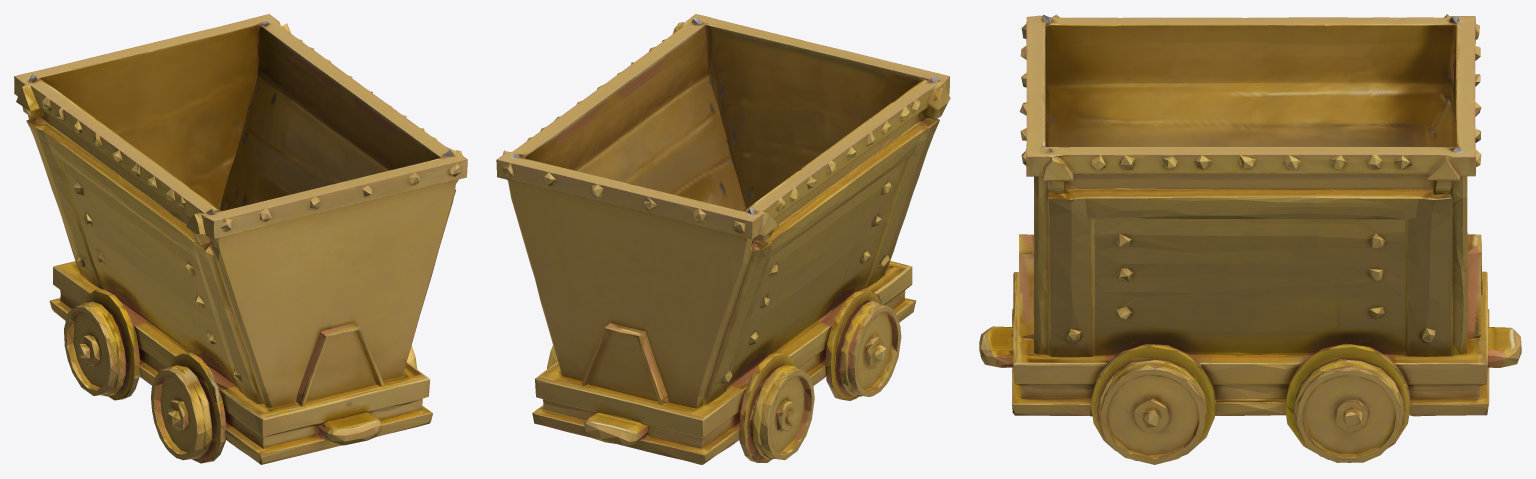
File: Golden_Minecart_0612102314_texture.fbx
The picture shows the model from 3 angles, left to right: view 1: azimuth 30°, elevation 25°; view 2: azimuth 150°, elevation 25°; view 3: azimuth 270°, elevation 25°; orthographic projection. The views are drawn at different scales.
Visible parts, largest first — view 1: temp; view 2: temp; view 3: temp.
Boxes of the visible parts, bbox=[...] form: temp: bbox=[14, 14, 467, 464]; temp: bbox=[496, 14, 950, 464]; temp: bbox=[979, 14, 1521, 464].
Size of the model in its own units: 129 by 135 by 200.
Materials: 1 (1 with a texture image).
